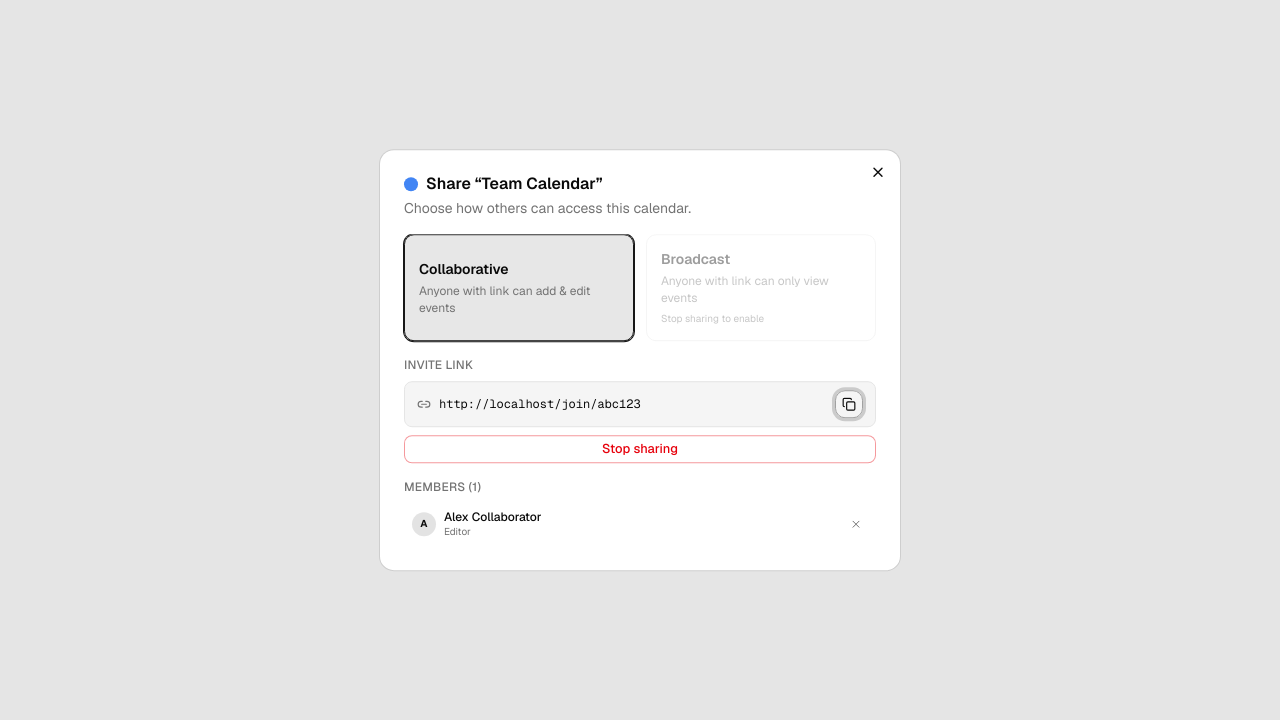
Test: ShareCalendarDialog — removeMember › removes the member from the list when the DELETE succeeds
This screenshot has width=1280, height=720.
Click the button without text in the row of "Alex Collaborator" at point(856, 525), box x1=844 y1=513 x2=868 y2=537
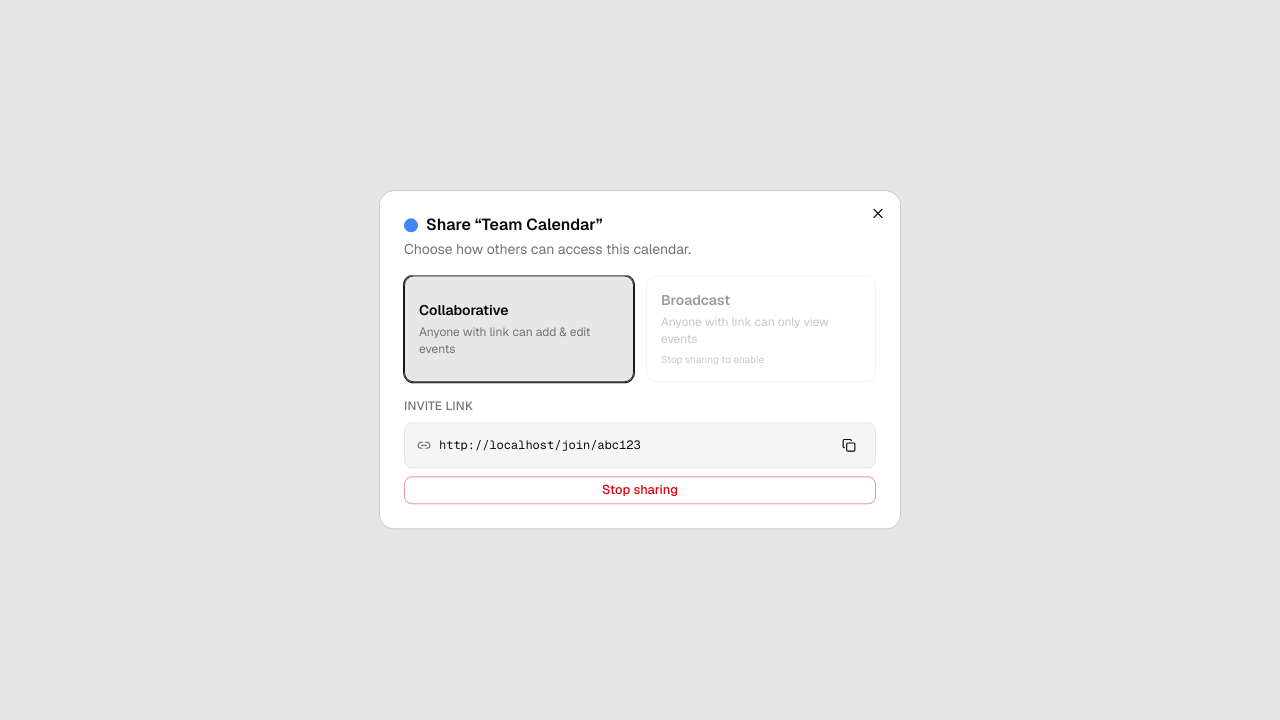
Expected: the text "Alex Collaborator" is gone
